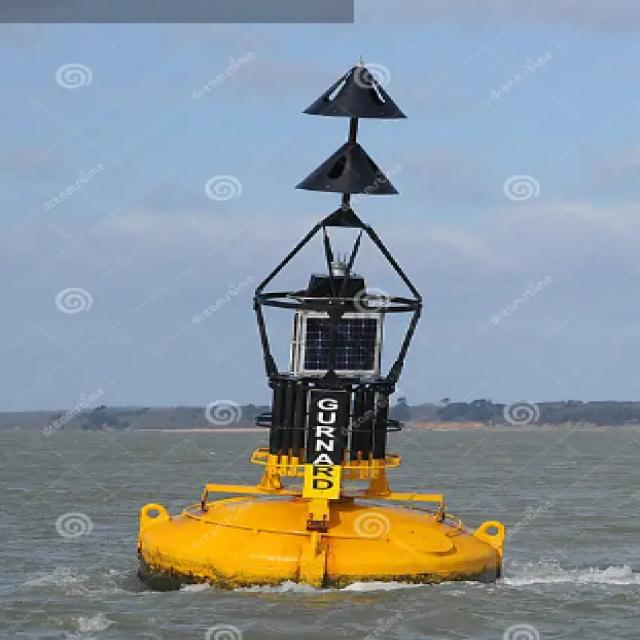2.2 cardinal mark -N-: (132, 39, 562, 604)
